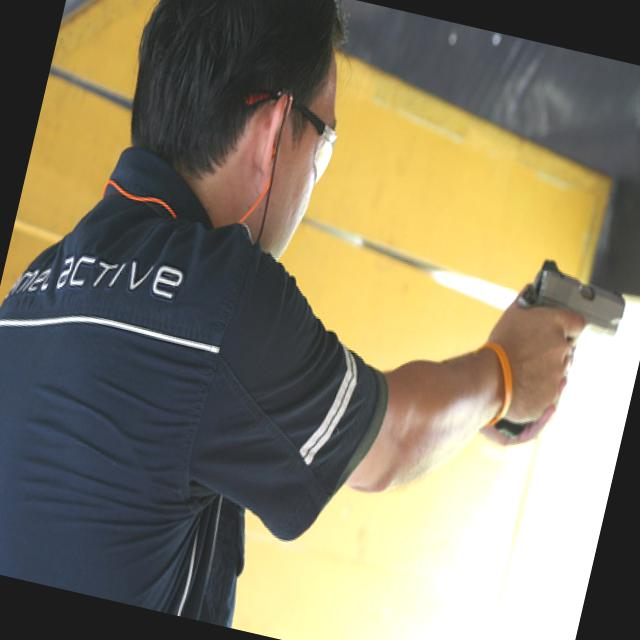handgun: (487, 251, 639, 454)
